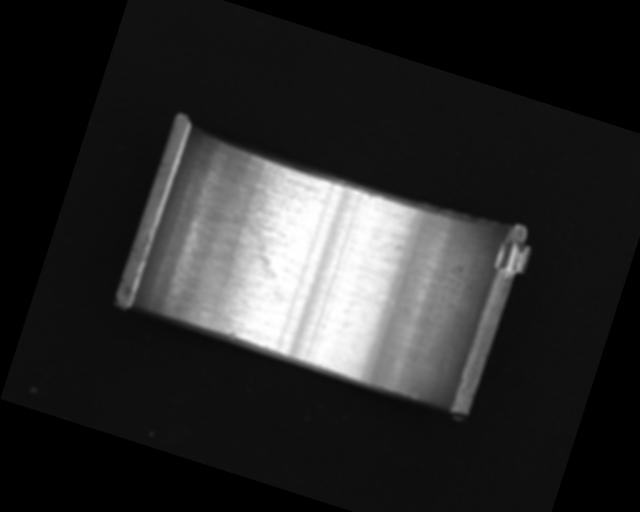bruise: (225, 328, 239, 340)
